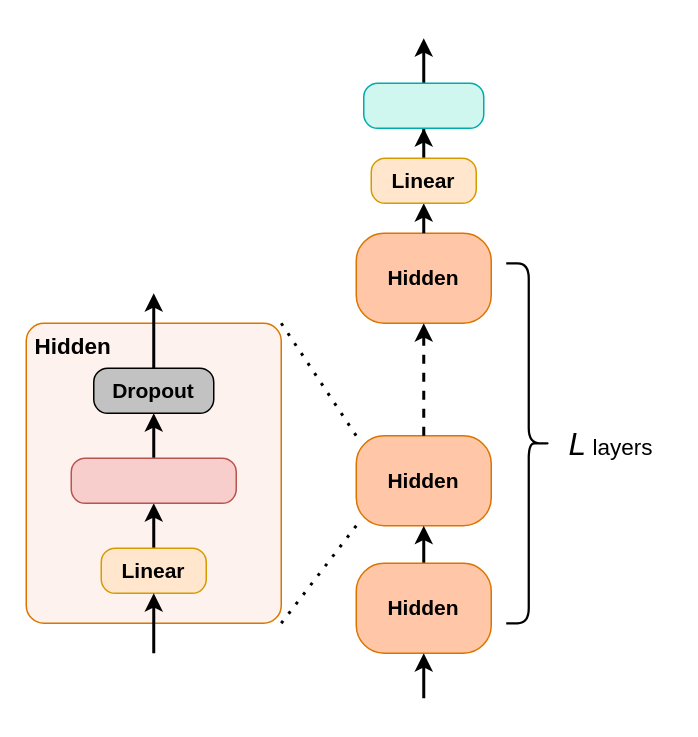
This 698x737 diagram has some shape labels left out. The centre of each missing label's shape, as x and y in pixels:
"Activation" goes at [153,480].
"Sigmoid" goes at [423,105].
